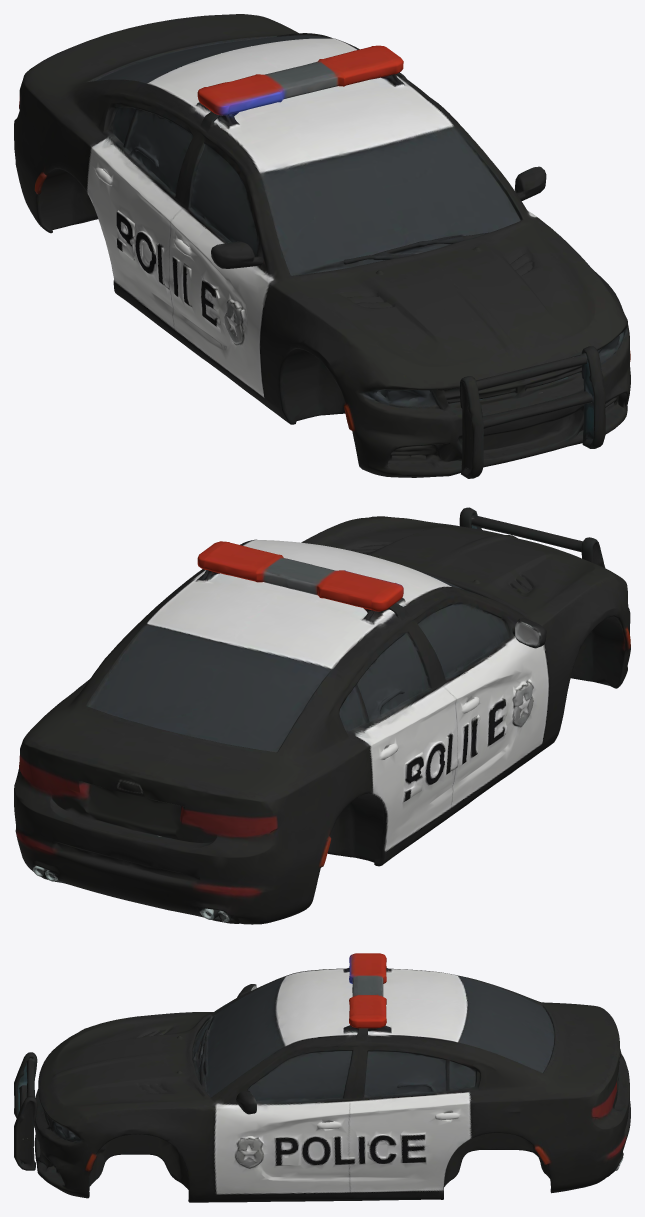
Rendered from police.glb.
3 renders of one model, top to bottom at view 1: azimuth 30°, elevation 25°; view 2: azimuth 150°, elevation 25°; view 3: azimuth 270°, elevation 25°, orthographic. The views are drawn at different scales.
Visible parts, largest first — view 1: tripo_node_9801791d-8e27-4df6-83bb-6e327f65cfd7; view 2: tripo_node_9801791d-8e27-4df6-83bb-6e327f65cfd7; view 3: tripo_node_9801791d-8e27-4df6-83bb-6e327f65cfd7.
Part boxes in pixels (<box>): tripo_node_9801791d-8e27-4df6-83bb-6e327f65cfd7: <box>14,14,630,478</box>; tripo_node_9801791d-8e27-4df6-83bb-6e327f65cfd7: <box>14,507,630,924</box>; tripo_node_9801791d-8e27-4df6-83bb-6e327f65cfd7: <box>14,953,630,1202</box>.
Bounding box in the file's own units: 0.4574 × 0.3057 × 1.
Materials: 1 (1 with a texture image).
